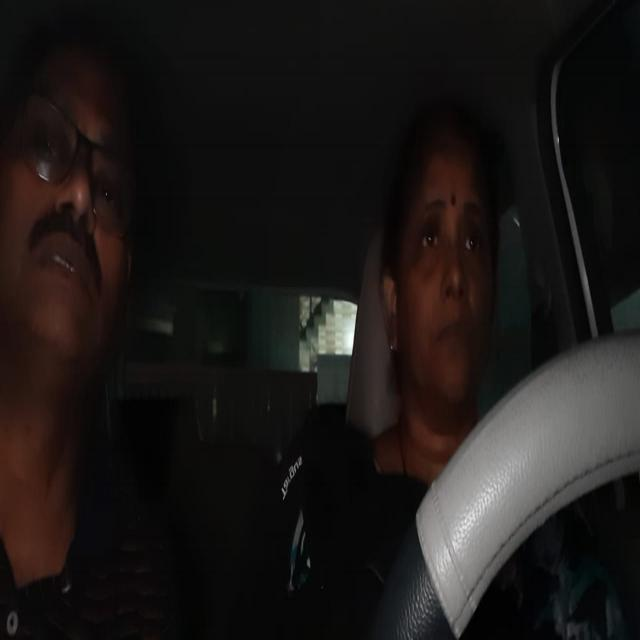person: (1, 0, 141, 406), (378, 91, 506, 432)
